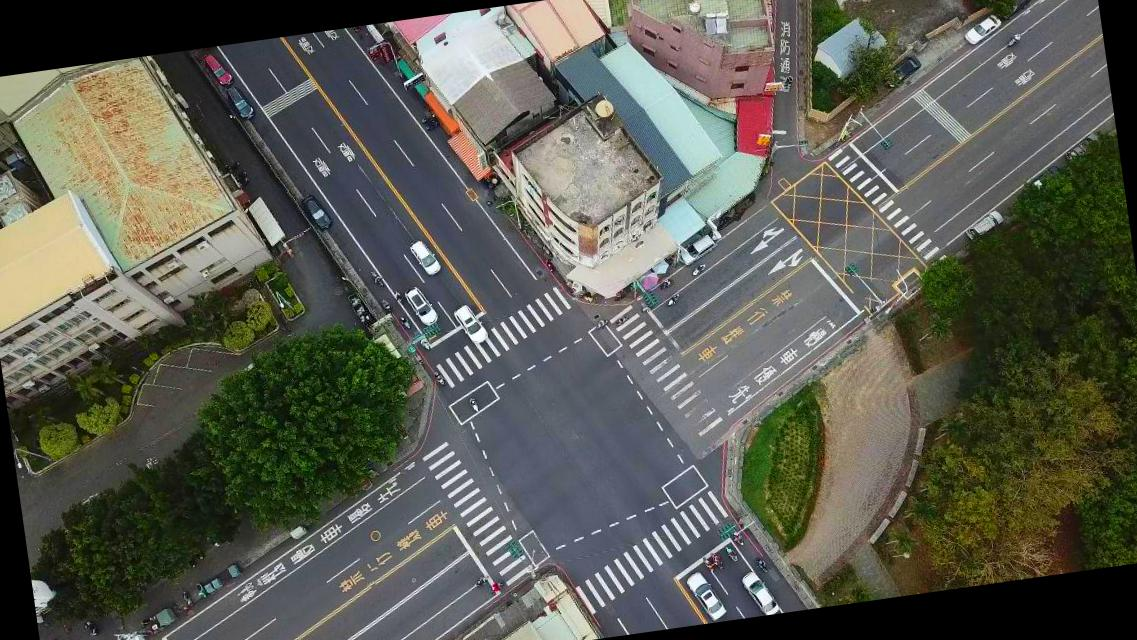vehicle: (684, 566, 730, 626), (740, 568, 782, 618), (402, 284, 440, 330), (452, 302, 490, 348), (878, 54, 924, 88), (299, 191, 334, 234), (408, 238, 442, 280), (963, 209, 1005, 243), (200, 50, 234, 90), (223, 81, 256, 122), (961, 14, 1003, 46)
